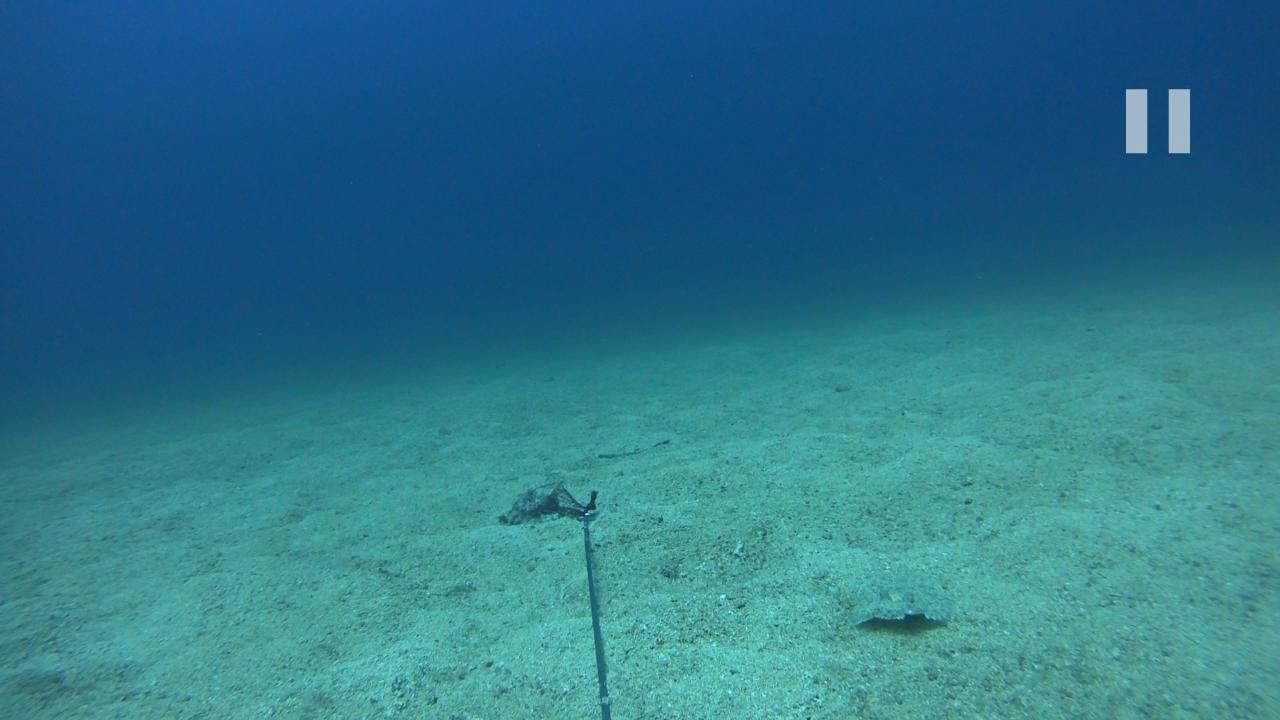bothus: (844, 560, 954, 642)
